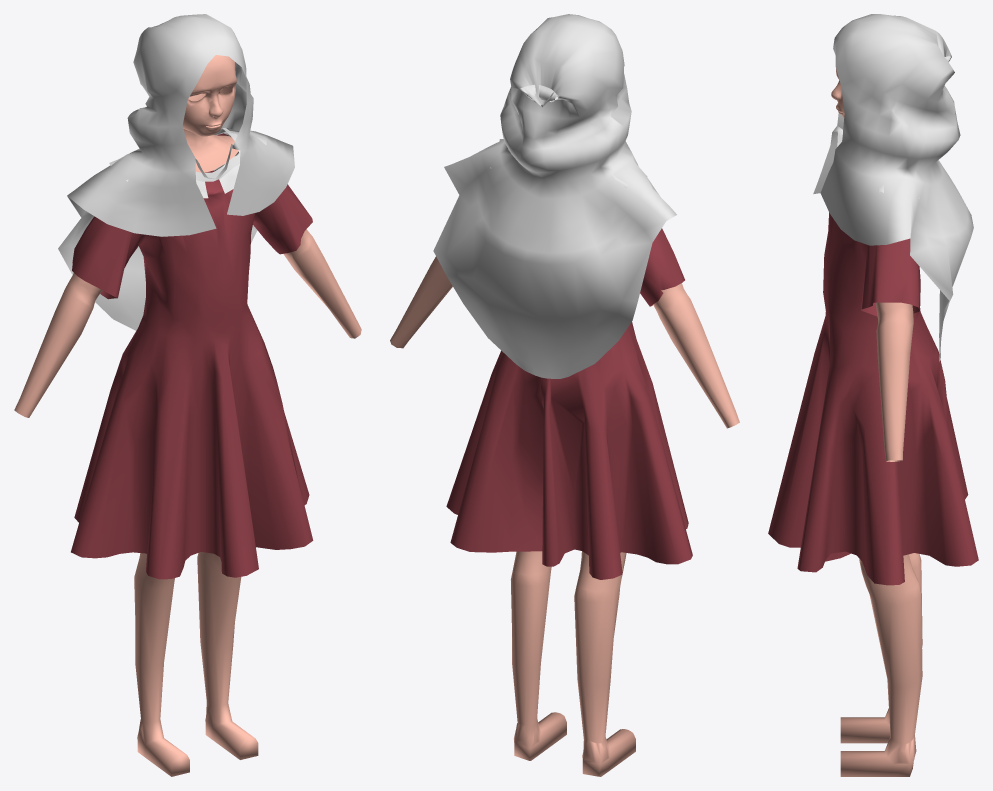
File: Kapturek_nr (1).fbx
3 renders of one model, left to right at view 1: azimuth 30°, elevation 25°; view 2: azimuth 150°, elevation 25°; view 3: azimuth 270°, elevation 25°, orthographic.
Parts seen in each view (by area): view 1: suk; view 2: suk; view 3: suk.
Part boxes in pixels (x1,y1,x2,y2): suk: (14,14,361,776); suk: (390,14,739,776); suk: (768,14,978,776).
Bounding box in the file's own units: 454 × 923 × 239.
